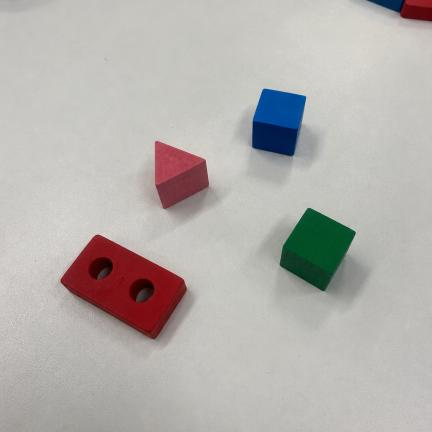BuildingBlocks: (61, 235, 186, 338), (281, 208, 355, 290), (155, 141, 208, 207), (253, 90, 306, 155), (401, 0, 431, 21), (369, 0, 404, 11)
